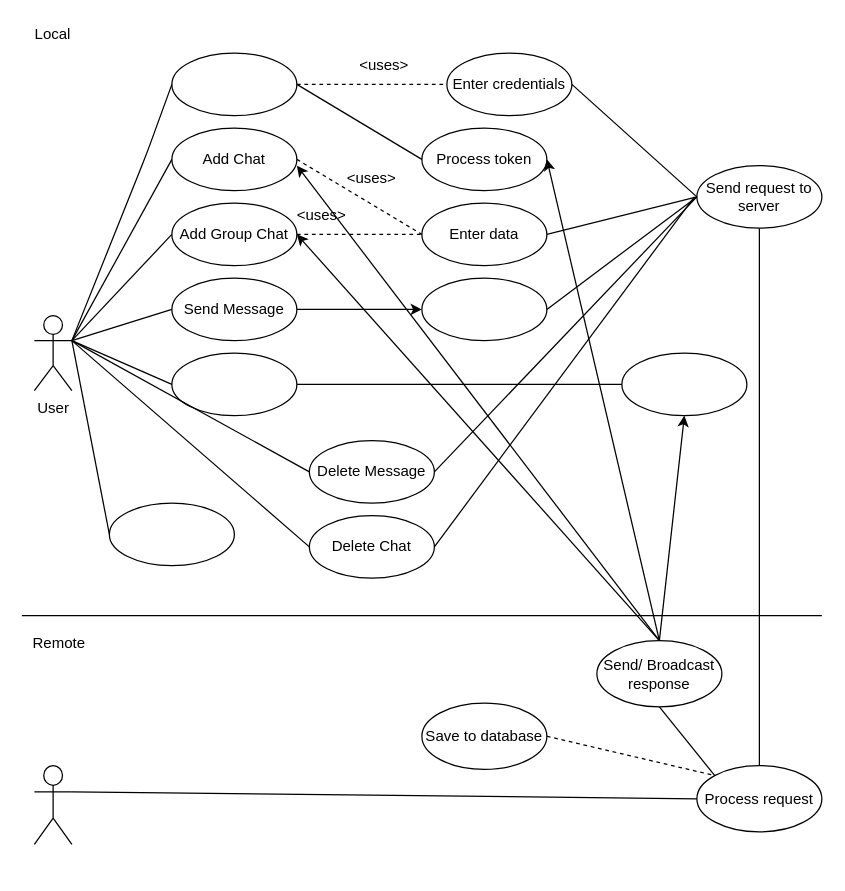
This 845x891 diagram has some shape labels left out. Here are the shapes that lost their labels. From the top down, the centre of each, then its label:
point (234, 84): Login/ Register
point (484, 309): Encrypt
point (234, 384): Receive message
point (684, 384): Decrypt
point (171, 534): Log out
point (52, 804): Server
